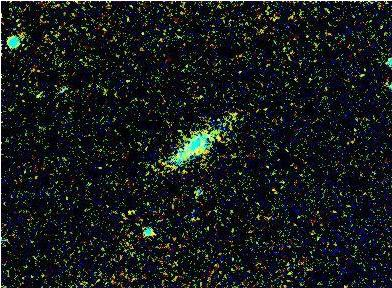star: (206, 122, 236, 152)
